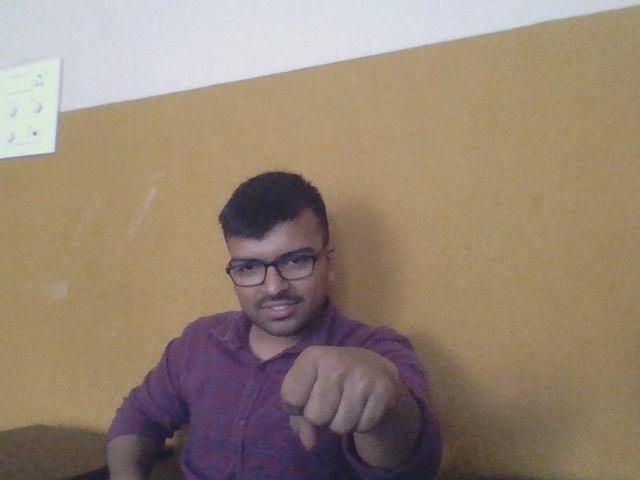Yes: (276, 335, 406, 454)
